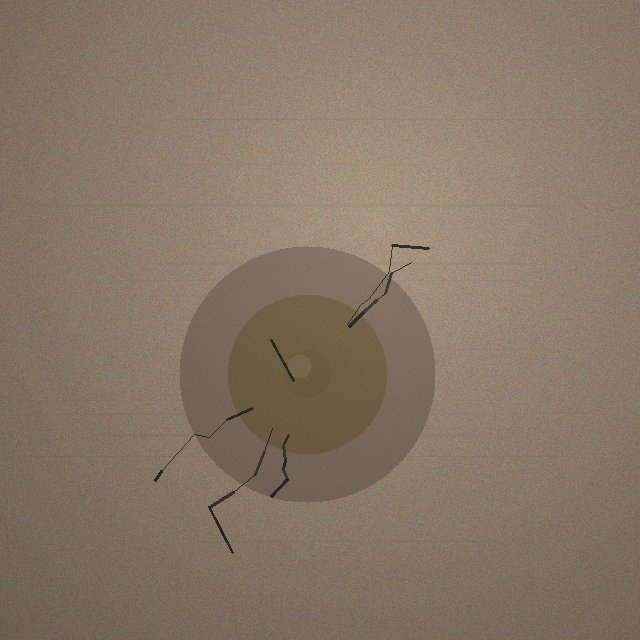crack: (179, 246, 435, 502)
